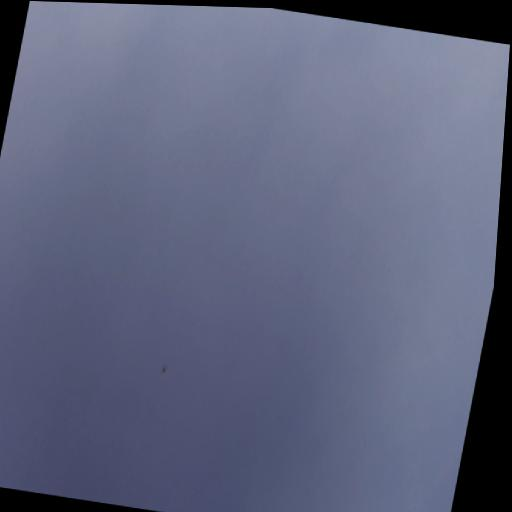drones: (159, 362, 170, 377)
